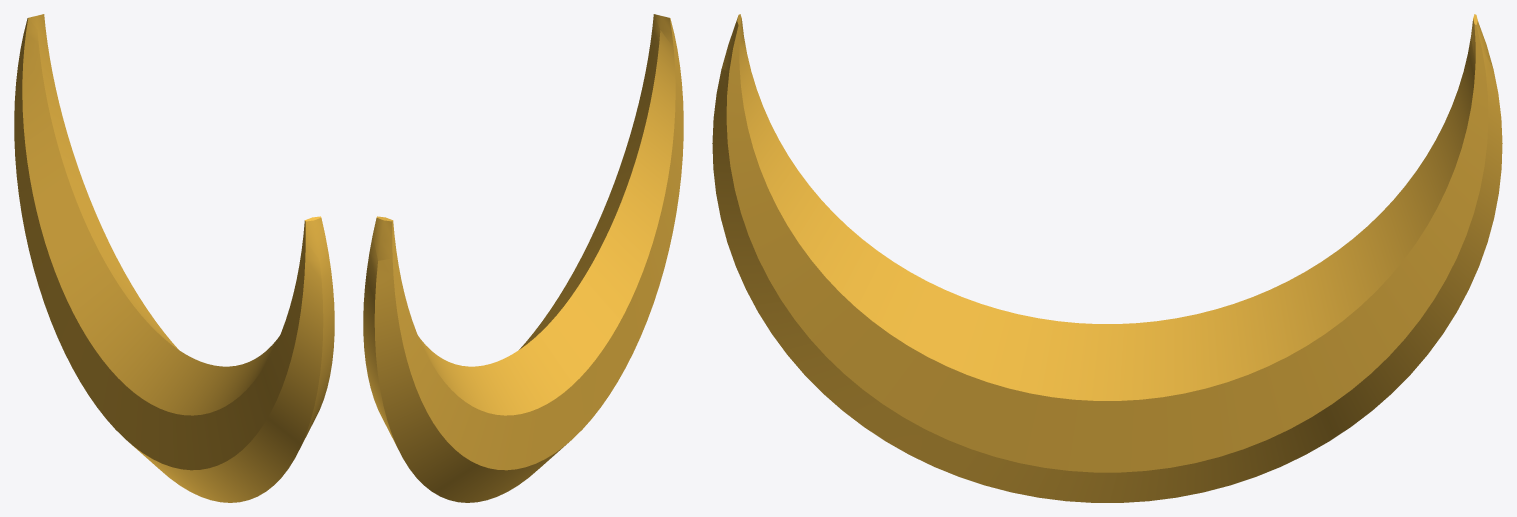
File: MoonGuard.obj
The picture shows the model from 3 angles, left to right: view 1: azimuth 30°, elevation 25°; view 2: azimuth 150°, elevation 25°; view 3: azimuth 270°, elevation 25°; orthographic projection. The views are drawn at different scales.
Parts seen in each view (by area): view 1: MoonGuard; view 2: MoonGuard; view 3: MoonGuard.
Part boxes in pixels (<box>): MoonGuard: <box>14,14,334,502</box>; MoonGuard: <box>363,14,683,502</box>; MoonGuard: <box>712,14,1502,502</box>.
Size of the model in its own units: 0.156 by 0.7579 by 1.12.
